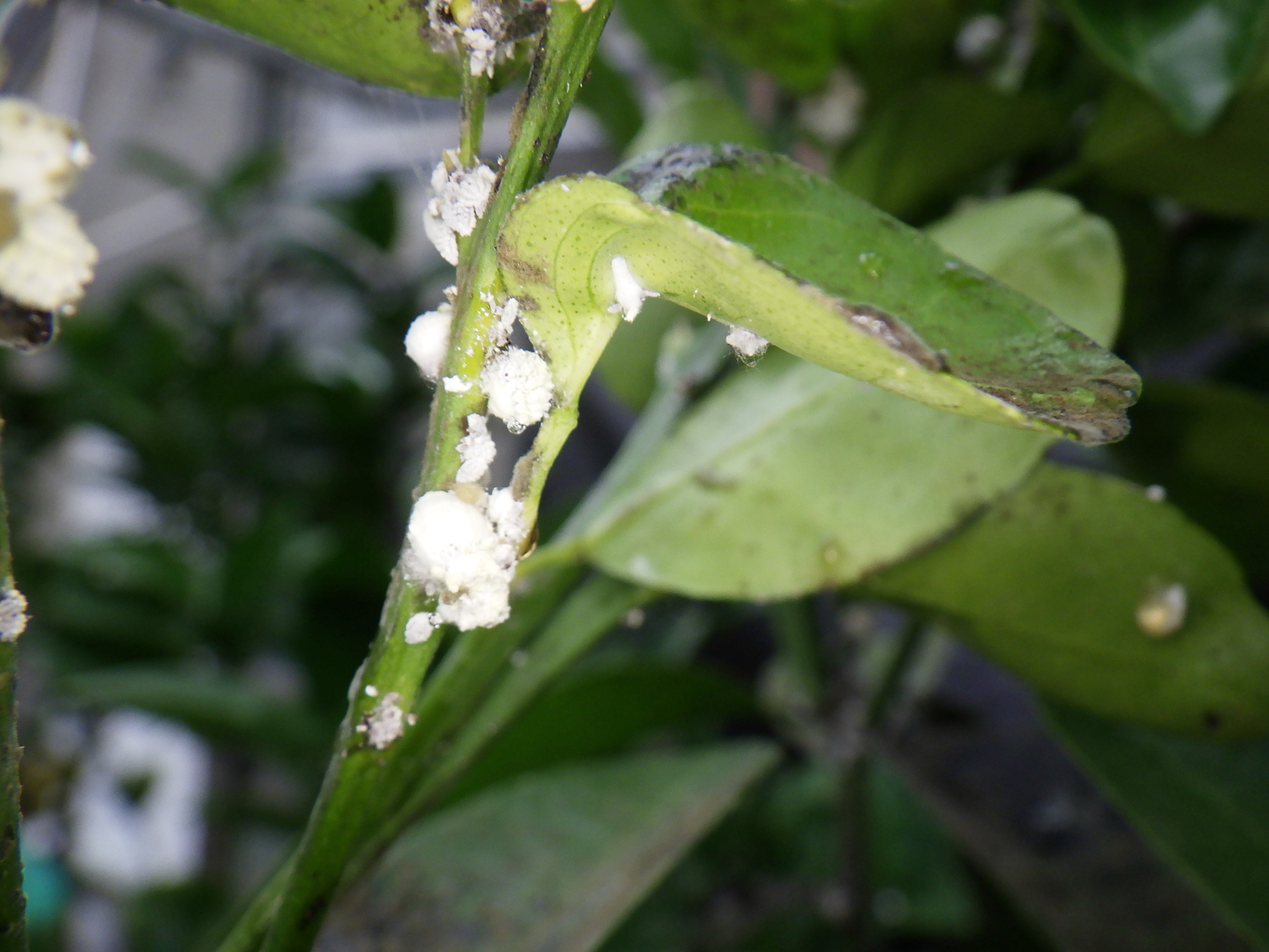Scale_Insect: (409, 491, 524, 630), (426, 164, 490, 263), (480, 346, 551, 431), (455, 415, 494, 482), (439, 375, 475, 393)
